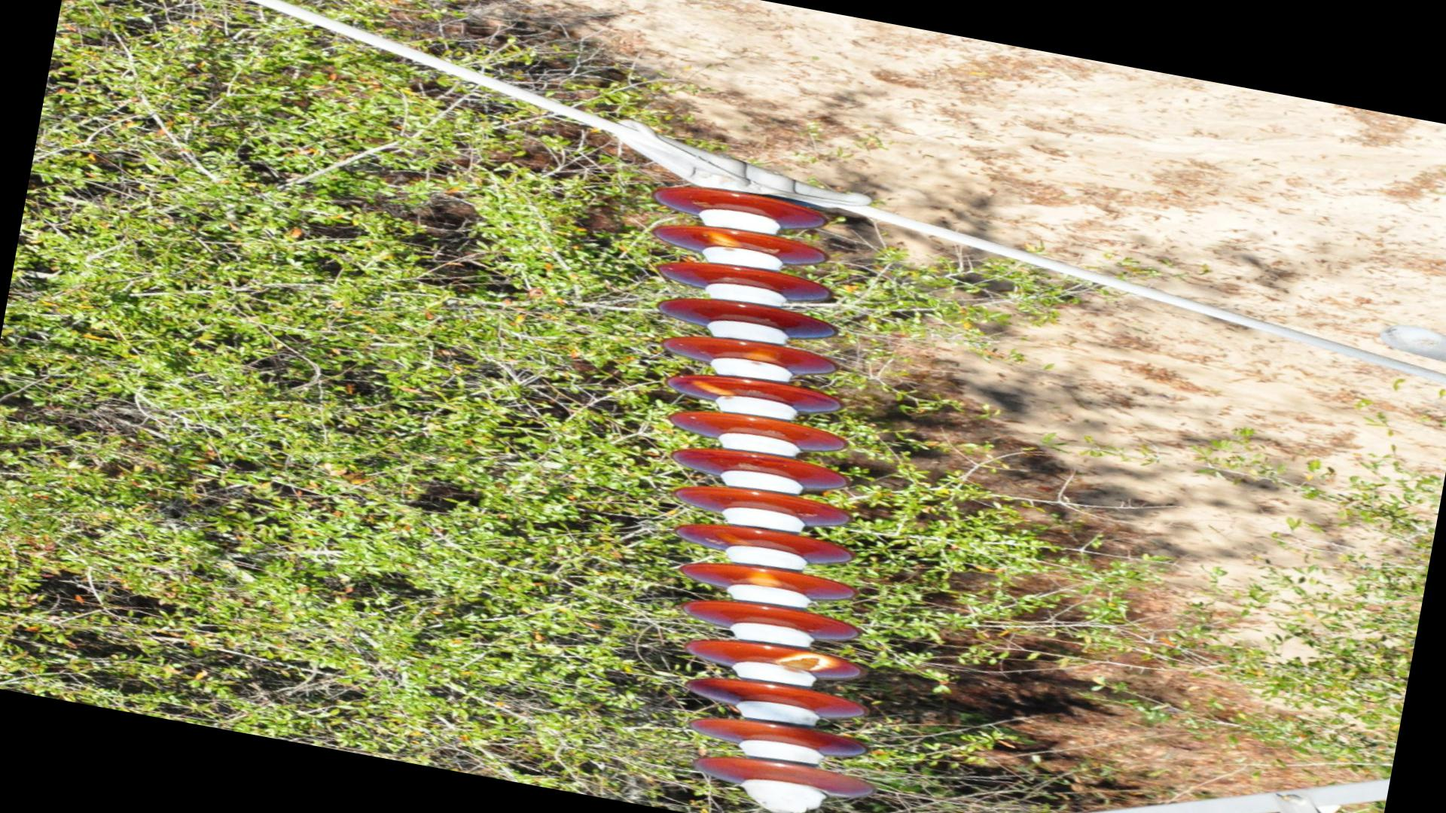damper: (1362, 312, 1446, 428)
